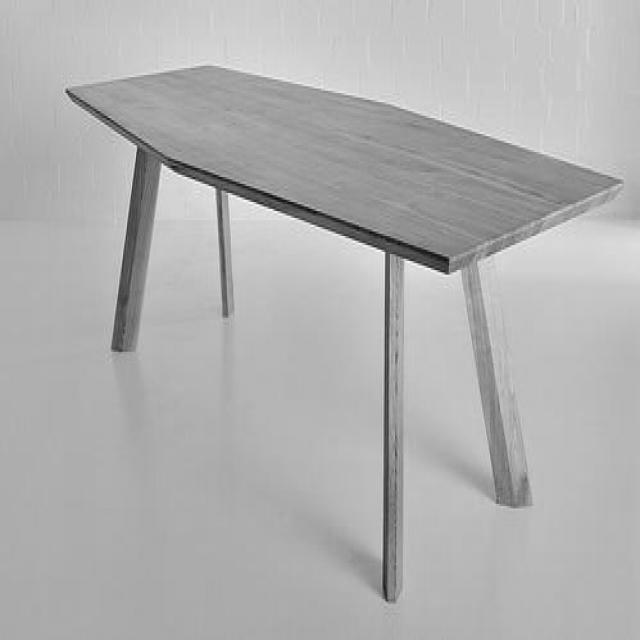table: (65, 61, 622, 604)
